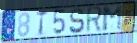5: (52, 7, 68, 36)
8: (17, 11, 32, 39)
M: (102, 5, 124, 33)
R: (85, 6, 105, 35)
S: (68, 7, 86, 35)
T: (35, 10, 49, 37)
